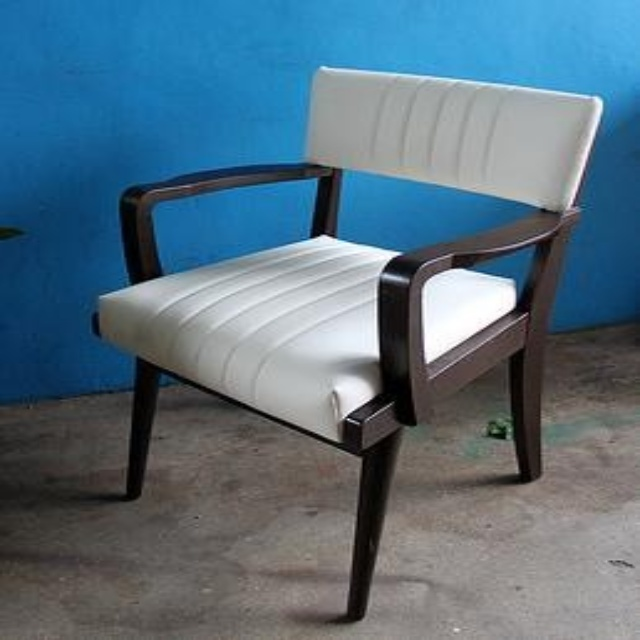obstacle: (99, 68, 600, 619)
